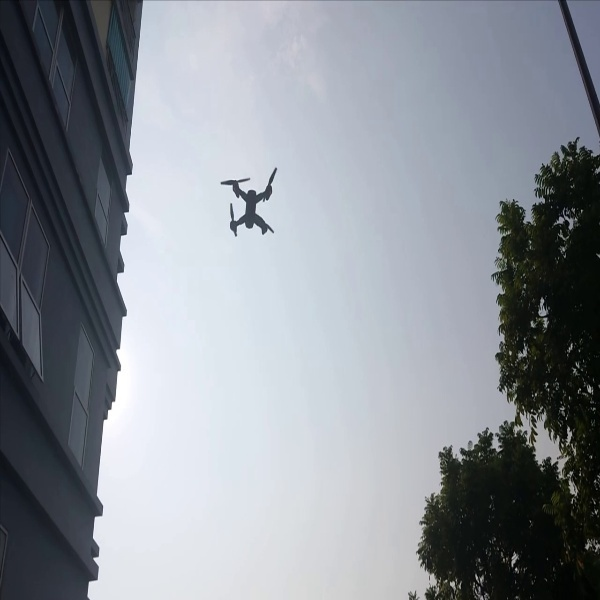drone: (203, 157, 290, 248)
